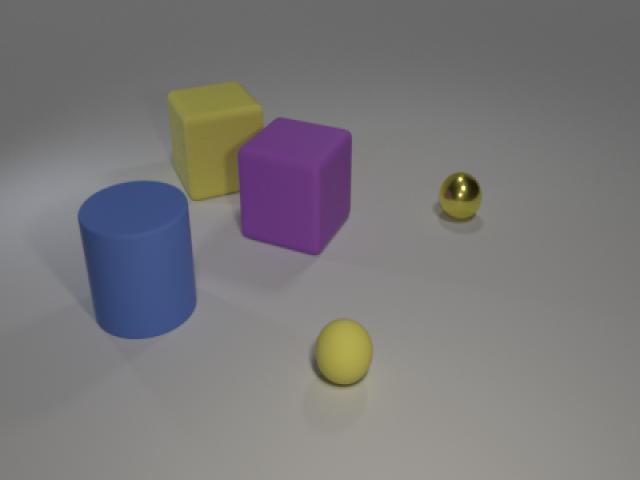cylinder: (72, 170, 202, 344)
round ball: (305, 309, 381, 390), (435, 166, 486, 230)
